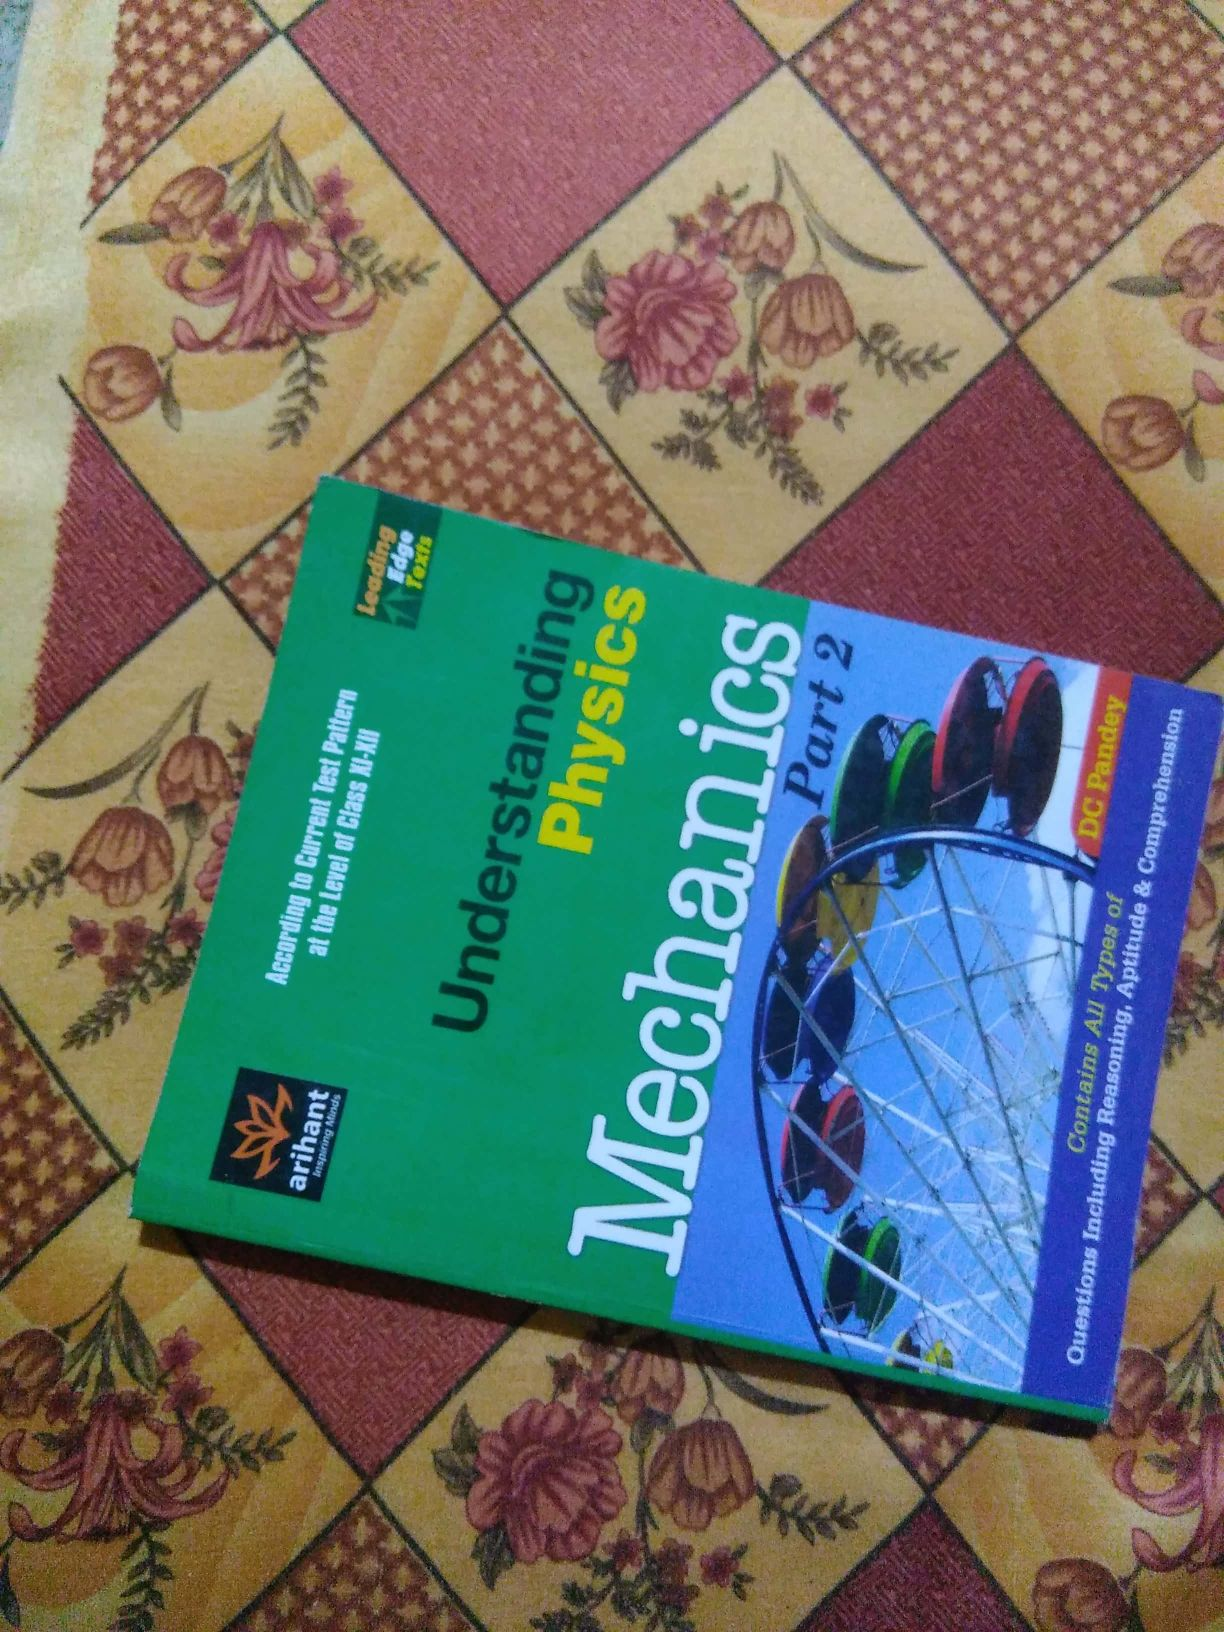mechanics: (126, 482, 1207, 1424)
